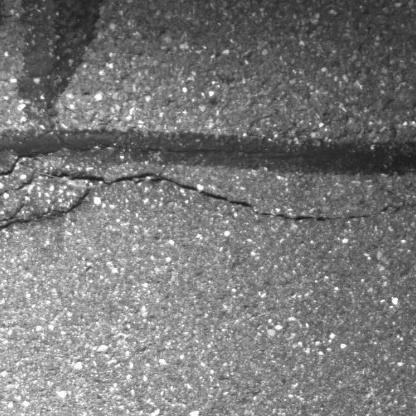Cracks: (0, 153, 416, 225), (0, 201, 35, 240), (52, 190, 94, 220)
